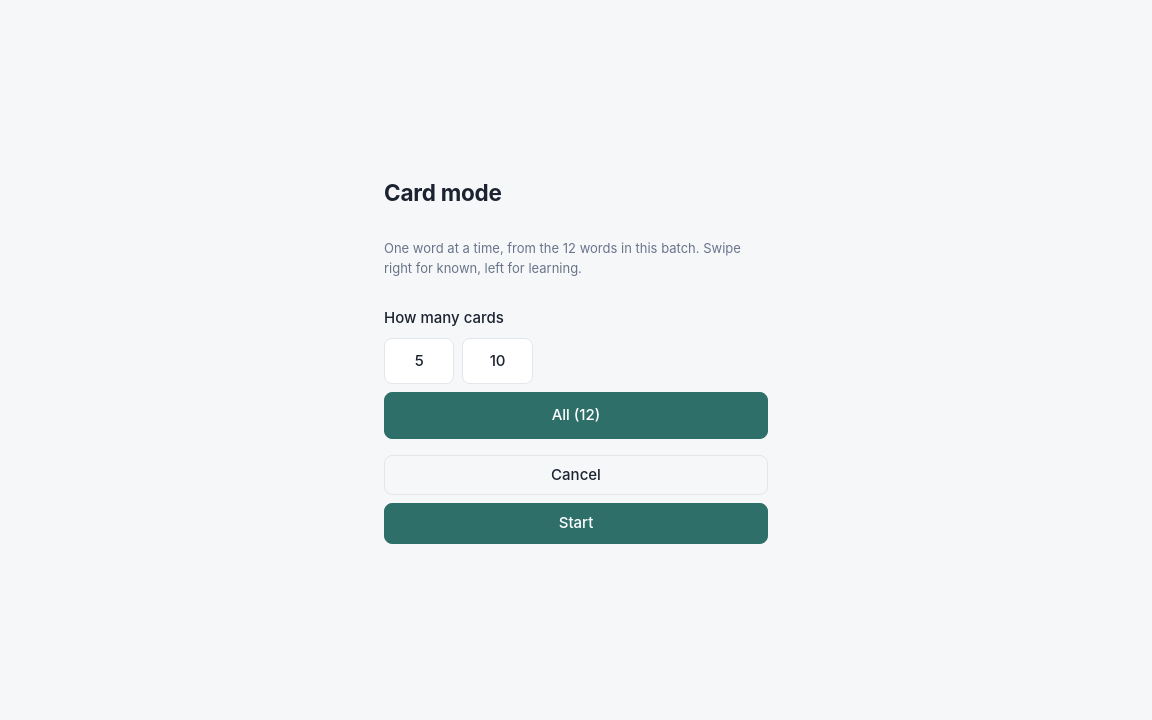
it: CardMode deck › shows the word and its context, and withholds the definition until asked
This screenshot has width=1152, height=720.
Click the button "5" at (419, 361), box x1=384 y1=338 x2=454 y2=384
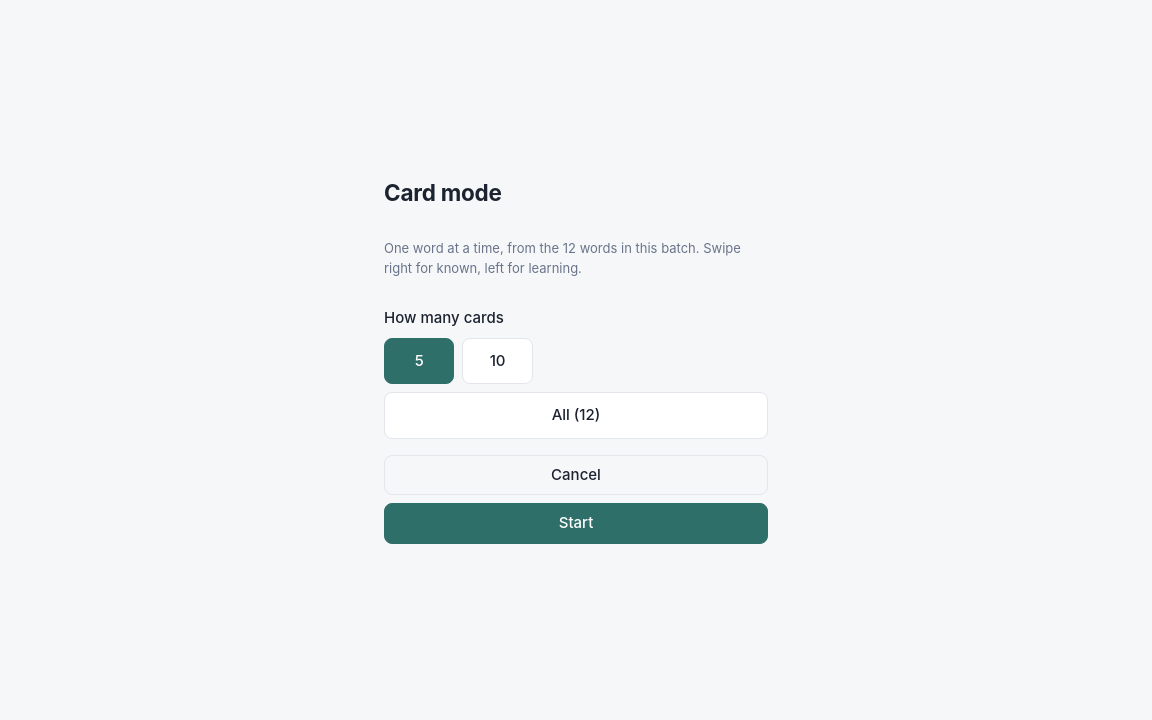
Click the button "Start" at (576, 523), box x1=384 y1=503 x2=768 y2=544
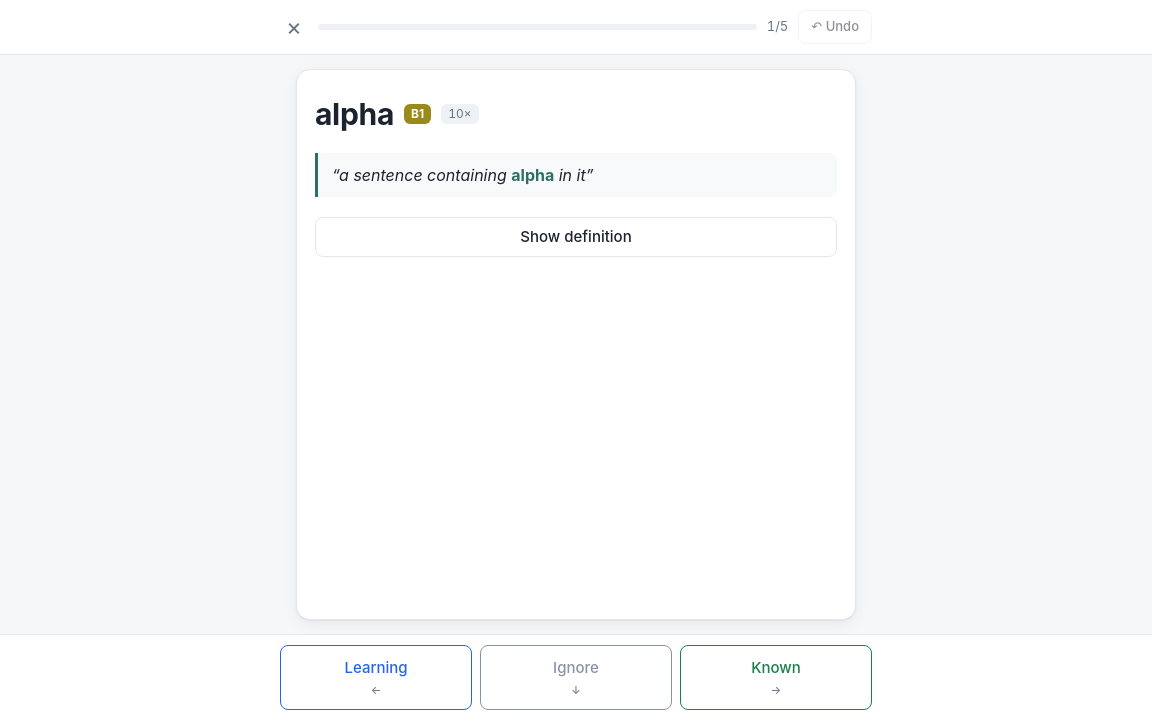
Expected: the text "the first letter" is not shown
Expected: the heading "alpha" is shown, x1=315 y1=92 x2=394 y2=136
Expected: the text "“a sentence containing alpha in it”" is shown, x1=315 y1=152 x2=837 y2=196
Click the button "Show definition" at (576, 237), box x1=315 y1=216 x2=837 y2=257
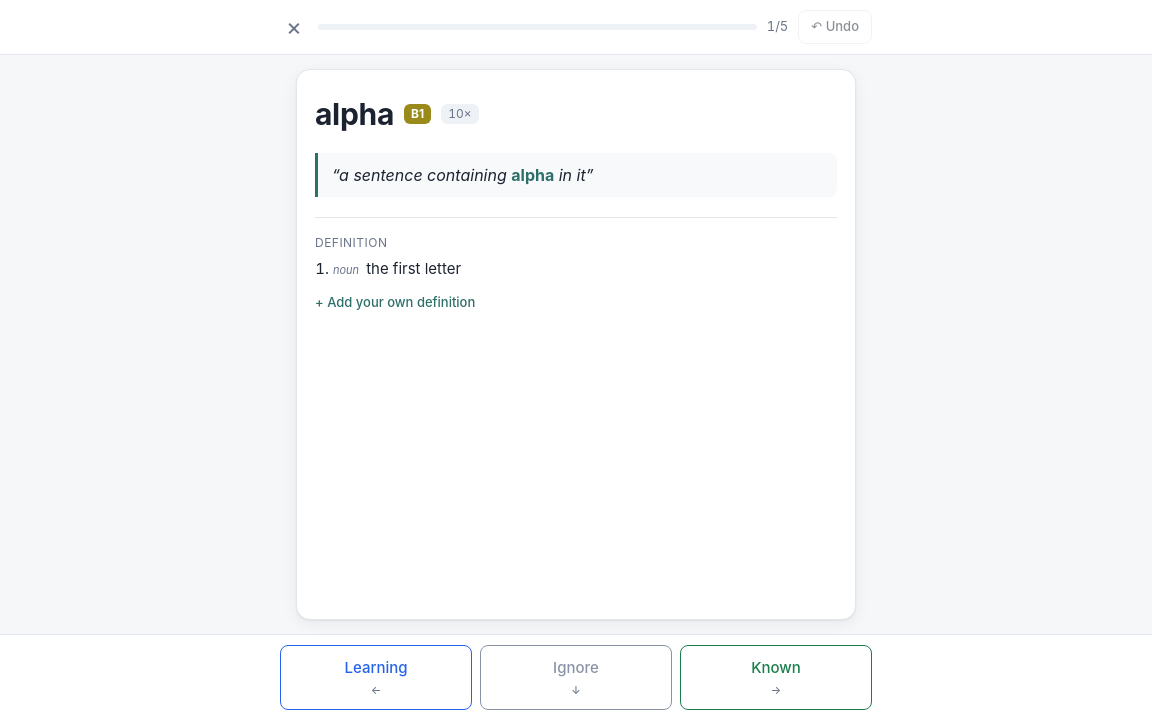
Expected: the text "the first letter" is shown, x1=366 y1=258 x2=461 y2=278
